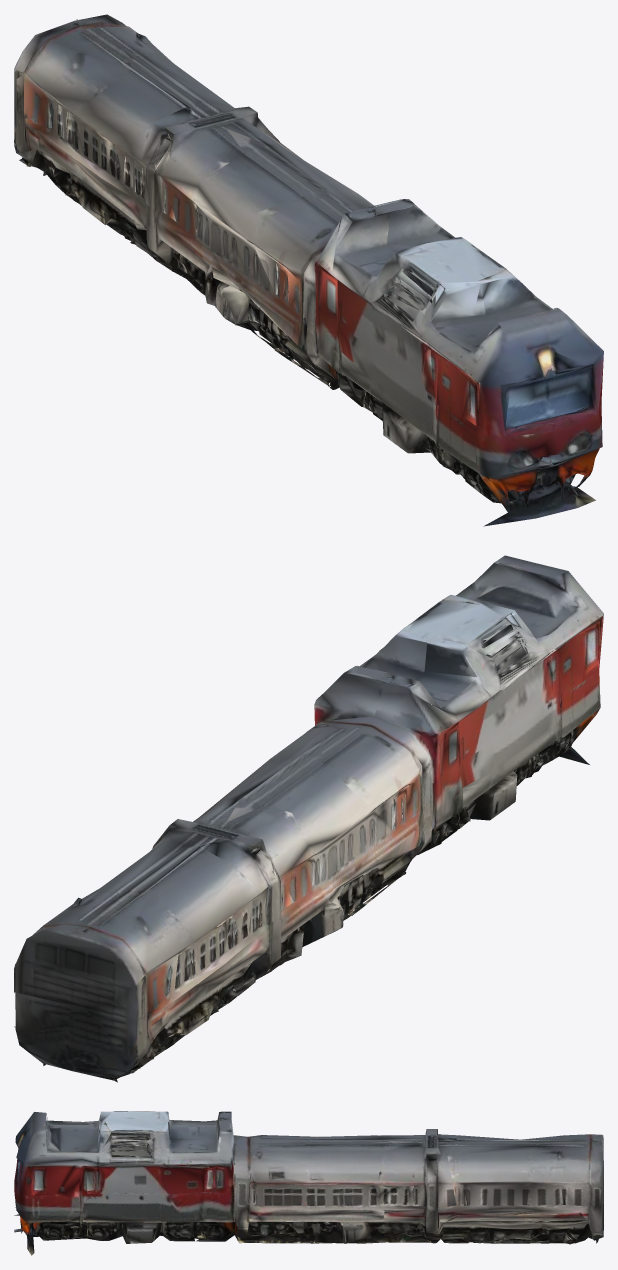
Rendered from transport-04.glb.
3 views of the same model, one above another, from view 1: azimuth 30°, elevation 25°; view 2: azimuth 150°, elevation 25°; view 3: azimuth 270°, elevation 25° (orthographic). The views are drawn at different scales.
Size of the model in its own units: 0.2824 by 0.3984 by 1.81.
1 material, 1 textured.
